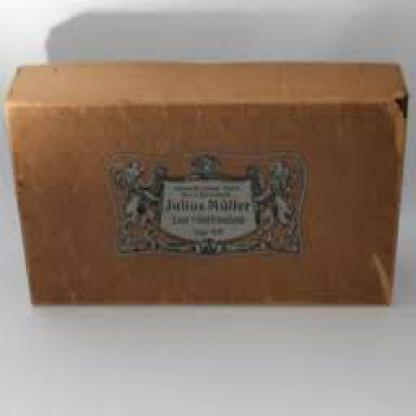CARDBOARD: (2, 61, 406, 306)
